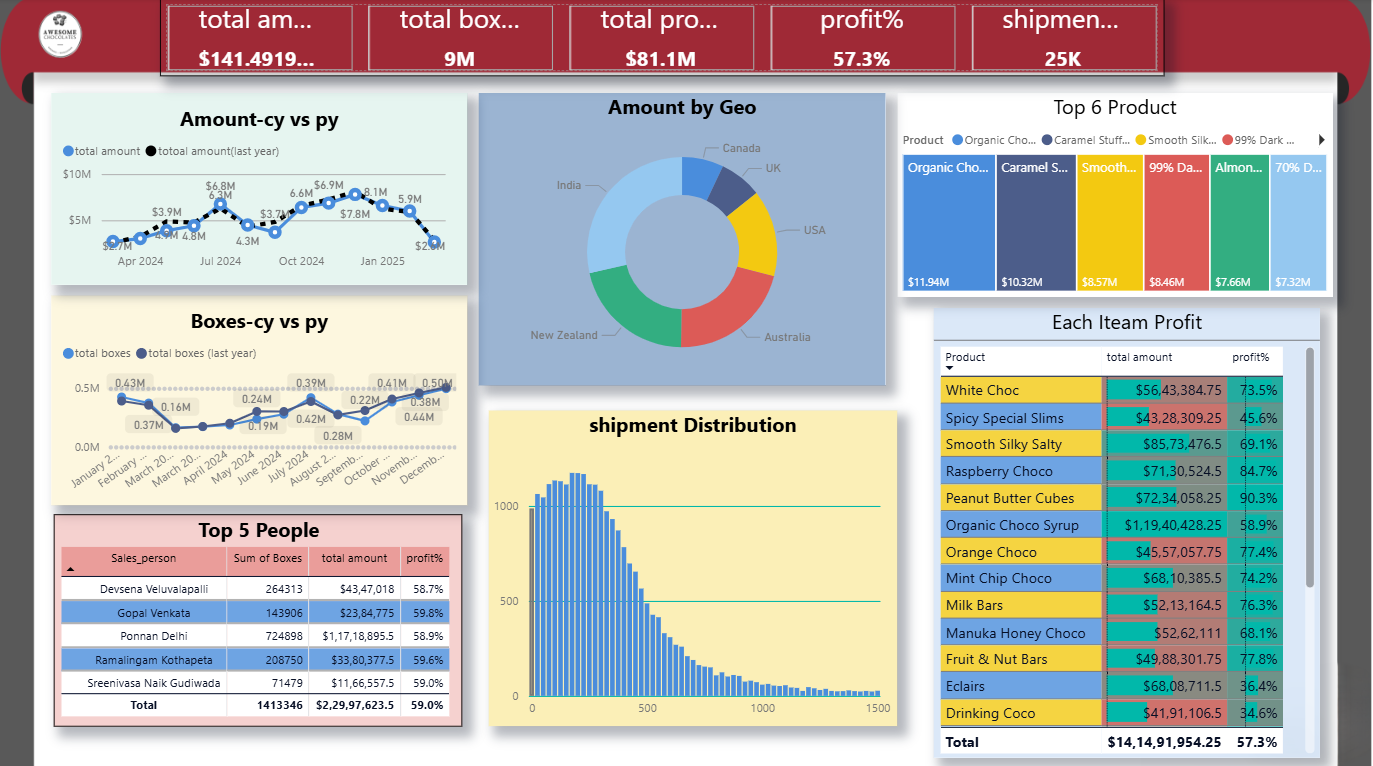

The page's visual inventory and layout, read from the dashboard file:
{"tool":"powerbi","page":{"name":"FIRST REPORT","canvas":[1280,720],"ordinal":7},"visuals":[{"type":"lineChart","title":"Boxes-cy vs py","fields":{"Y":["shipments.total boxes","shipments.total boxes (last year)"],"Category":["calendar.month_name","calendar.year"]},"box":[52.1,277.2,387,194.9],"z":0},{"type":"lineChart","title":"Amount-cy vs py","fields":{"Y":["shipments.total amount","shipments.totoal amount(last year)"],"Category":["calendar.Start of Month"]},"box":[52.1,87.8,387,178.4],"z":1000},{"type":"donutChart","title":"Amount by Geo","fields":{"Y":["shipments.total amount"],"Category":["locations.Geo"]},"box":[450.1,87.8,378.7,271.7],"z":2000},{"type":"clusteredColumnChart","title":"shipment Distribution","fields":{"Y":["shipments.shipment count"],"Category":["shipments.Boxes (bins)"]},"box":[459.7,384.2,380.1,293.7],"z":3000},{"type":"tableEx","title":"Top 5 People","fields":{"Values":["people.Sales_person","Sum(shipments.Boxes)","shipments.total amount","shipments.profit%"]},"box":[54.9,480.3,380.1,197.6],"z":4000},{"type":"treemap","title":"Top 6 Product","fields":{"Values":["shipments.total amount"],"Group":["products.Product"]},"box":[839.8,87.8,404.8,189.4],"z":5000},{"type":"tableEx","title":"Each Iteam Profit","fields":{"Values":["products.Product","shipments.total amount","shipments.profit%"]},"box":[872.7,288.2,359.5,418.5],"z":6000},{"type":"cardVisual","fields":{"Data":["shipments.total amount","shipments.total boxes","shipments.total profit","shipments.profit%","shipments.shipment count"]},"box":[153.7,0,934.5,72.7],"z":7000}]}

Visuals, with their boxes in screenshot pixels (x1, y1, x2, y2), scaled from the page's 1280x720 canvas onto the 1373x766 screenshot:
"Boxes-cy vs py" lineChart: detection(56, 295, 471, 502)
"Amount-cy vs py" lineChart: detection(56, 93, 471, 283)
"Amount by Geo" donutChart: detection(483, 93, 889, 382)
"shipment Distribution" clusteredColumnChart: detection(493, 409, 901, 721)
"Top 5 People" tableEx: detection(59, 511, 467, 721)
"Top 6 Product" treemap: detection(901, 93, 1335, 295)
"Each Iteam Profit" tableEx: detection(936, 307, 1322, 752)
cardVisual - shipments.total amount x shipments.total boxes: detection(165, 0, 1167, 77)
